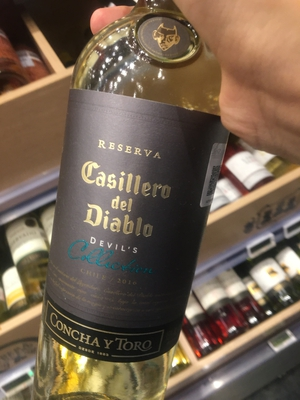casillero del diablo devils collection verde: (42, 32, 230, 400)
